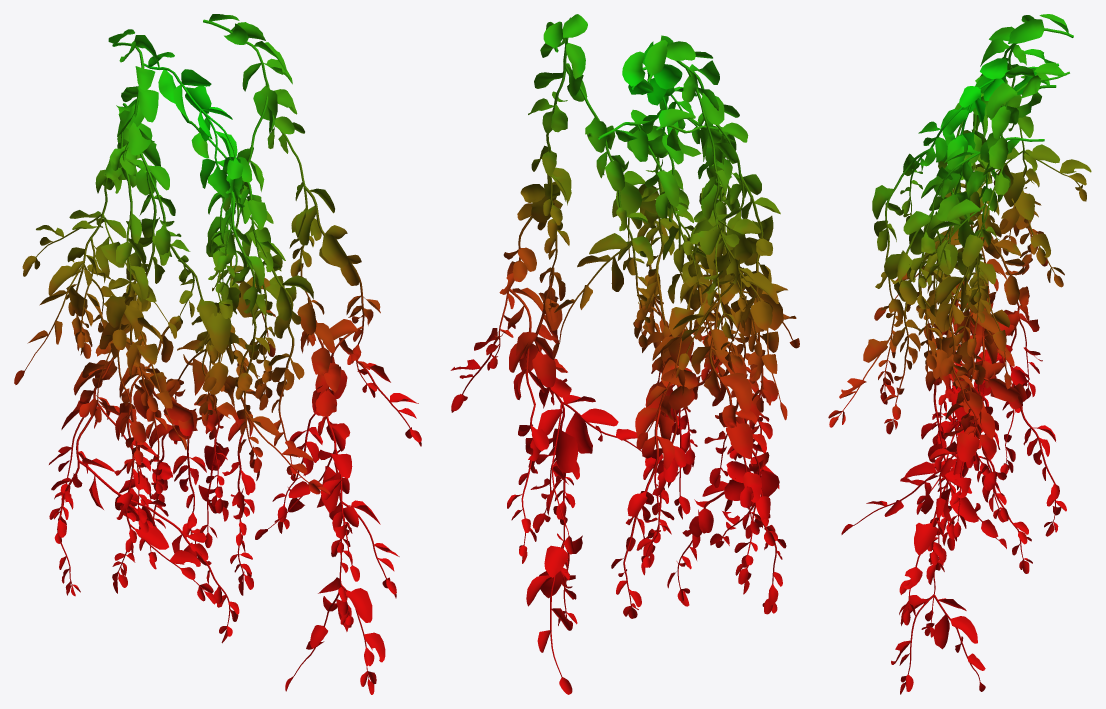
The model's file is Var4_LOD0.fbx.
The picture shows the model from 3 angles, left to right: view 1: azimuth 30°, elevation 25°; view 2: azimuth 150°, elevation 25°; view 3: azimuth 270°, elevation 25°; orthographic projection. The views are drawn at different scales.
Visible parts, largest first — view 1: _one4_Var4_LOD0; view 2: _one4_Var4_LOD0; view 3: _one4_Var4_LOD0.
Part boxes in pixels (x1,y1,x2,y2): _one4_Var4_LOD0: [14, 14, 421, 694]; _one4_Var4_LOD0: [450, 14, 799, 694]; _one4_Var4_LOD0: [828, 14, 1091, 694].
Bounding box in the file's own units: 78.67 × 139 × 53.45.
